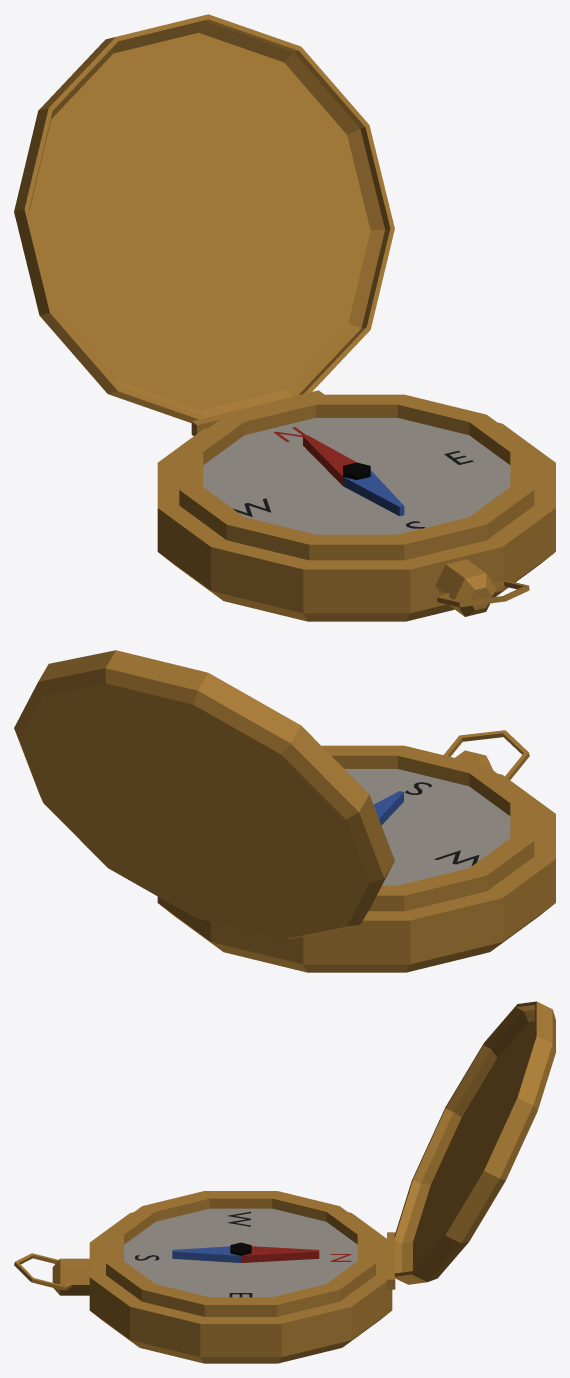
File: Compass.gltf
3 views of the same model, one above another, from view 1: azimuth 30°, elevation 25°; view 2: azimuth 150°, elevation 25°; view 3: azimuth 270°, elevation 25° (orthographic). The views are drawn at different scales.
Visible parts, largest first — view 1: Compass, Compass_Needle; view 2: Compass, Compass_Needle; view 3: Compass, Compass_Needle.
Boxes of the visible parts, x1,y1,x2,y2 form: Compass: (14,14,555,621); Compass_Needle: (303,435,404,516); Compass: (14,650,555,972); Compass_Needle: (373,791,403,825); Compass: (14,1001,555,1363); Compass_Needle: (172,1242,319,1262).
Bounding box in the file's own units: 0.0612 × 0.0639 × 0.1095.
